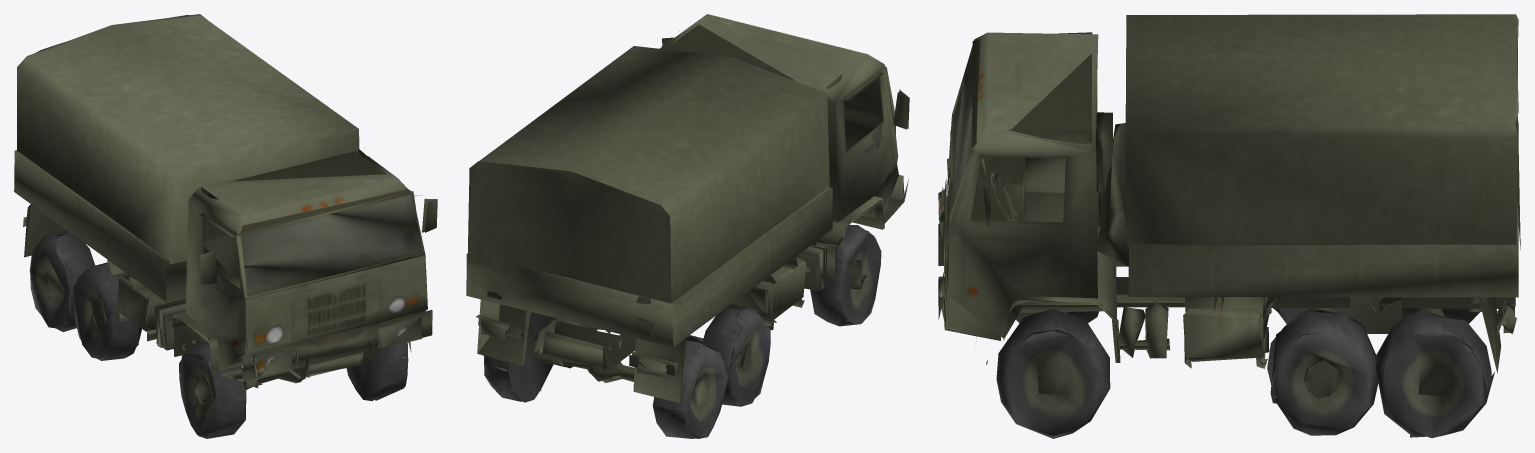
File: us-supply-truck.glb
3 views of the same model, side by side, from view 1: azimuth 30°, elevation 25°; view 2: azimuth 150°, elevation 25°; view 3: azimuth 270°, elevation 25° (orthographic). The views are drawn at different scales.
Visible parts, largest first — view 1: us-supply-truck; view 2: us-supply-truck; view 3: us-supply-truck.
Boxes of the visible parts, bbox=[...] form: us-supply-truck: bbox=[14, 14, 437, 438]; us-supply-truck: bbox=[466, 14, 909, 438]; us-supply-truck: bbox=[938, 14, 1520, 438].
Size of the model in its own units: 0.516 by 0.54 by 0.86.
Materials: 2 (1 with a texture image).
